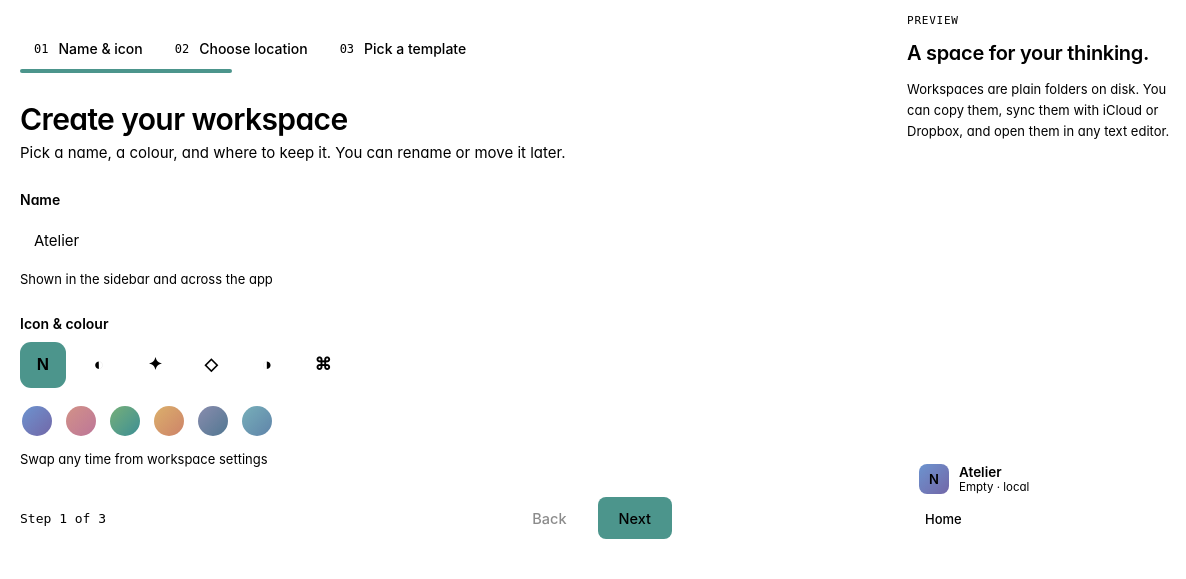
onboarding workspace storage options › shows creation failures for the local-only workspace flow
Click the button with class "footer-btn-next".
click(635, 518)  # box [598,497,672,539]
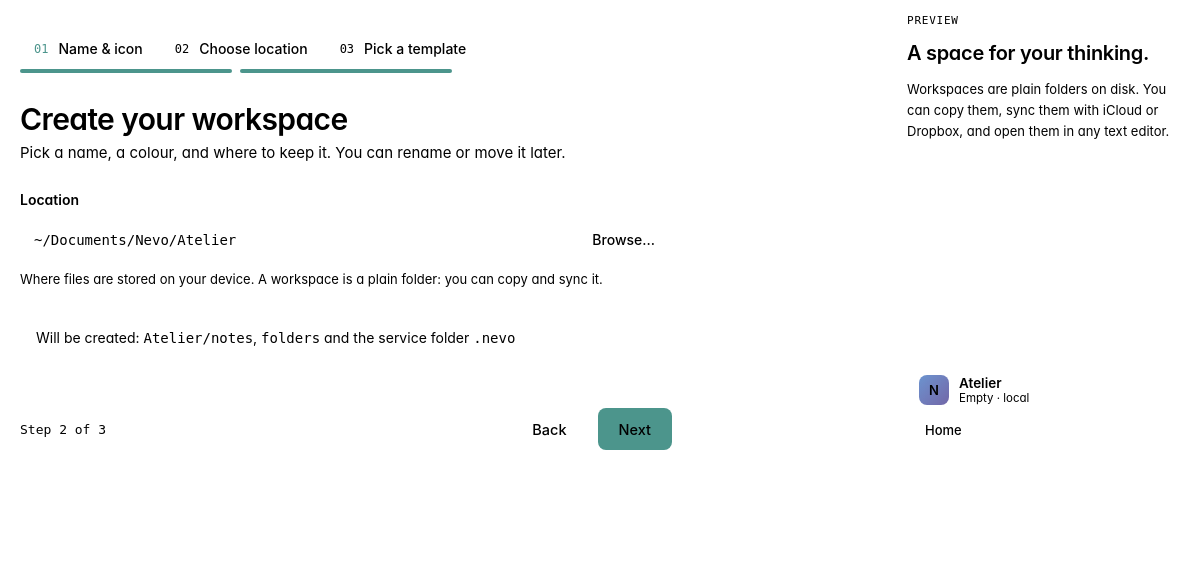
Click the button with class "footer-btn-next".
click(635, 429)  # box [598,408,672,450]
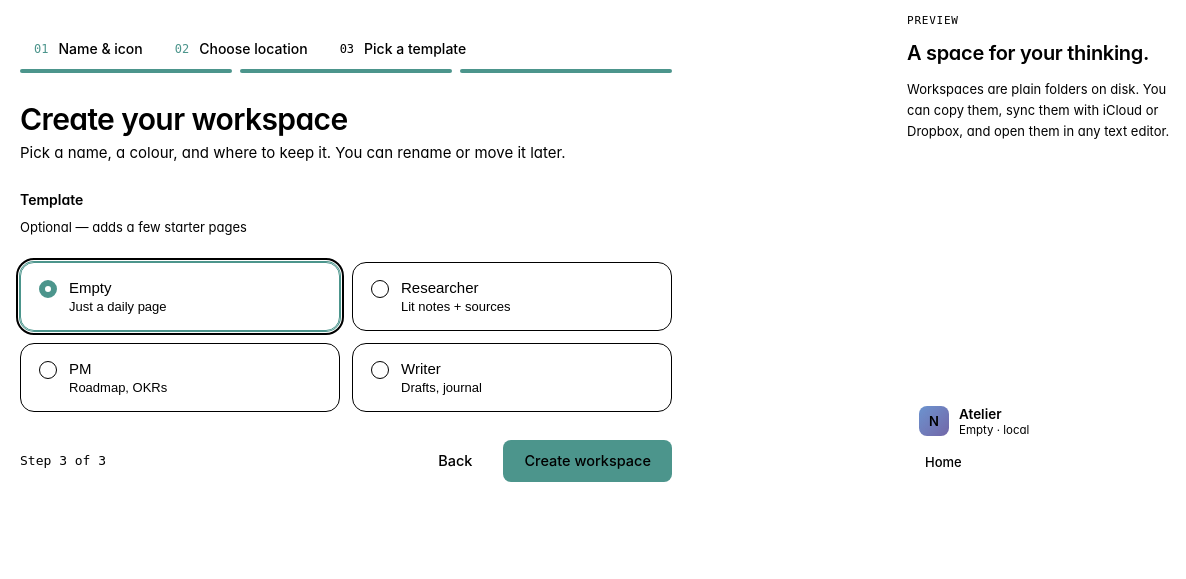
Click the button with class "footer-btn-create".
click(588, 460)  # box [503,440,672,482]
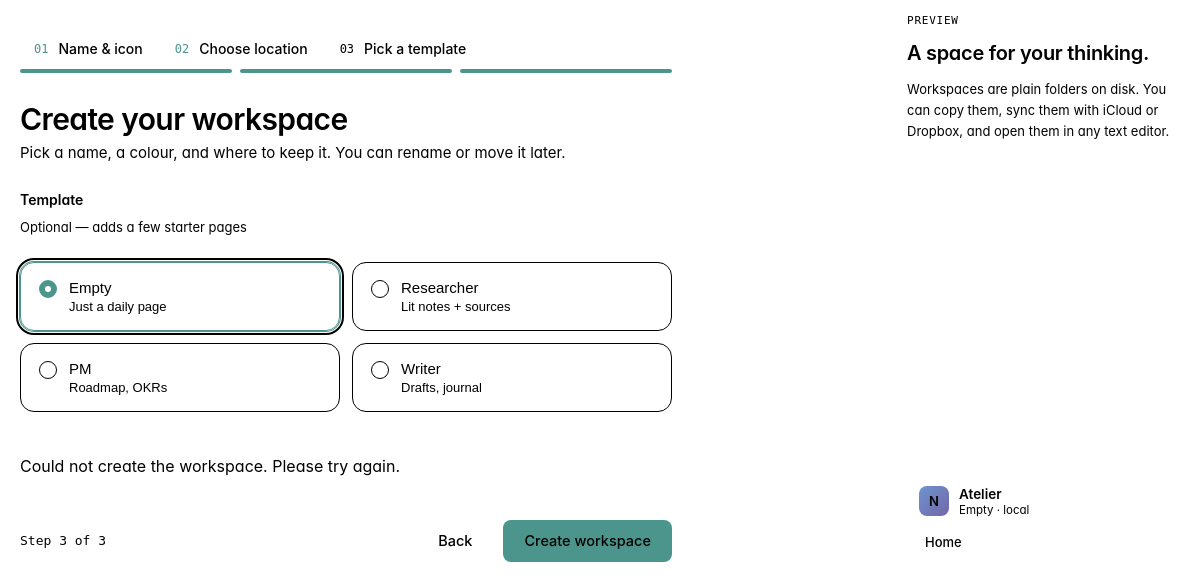
Expected: the message with class "form-error--footer" reads "Could not create the workspace. Please try again.", [20,456,400,476]
